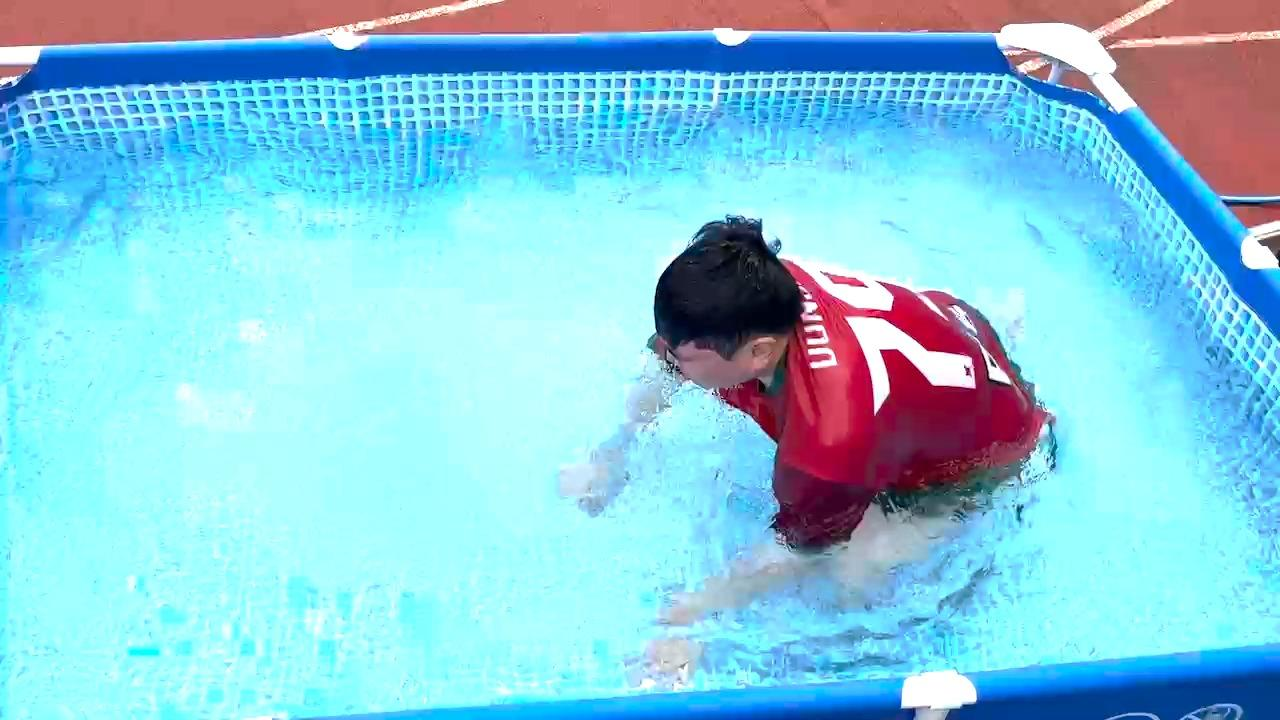Drowning: (436, 185, 1054, 637)
